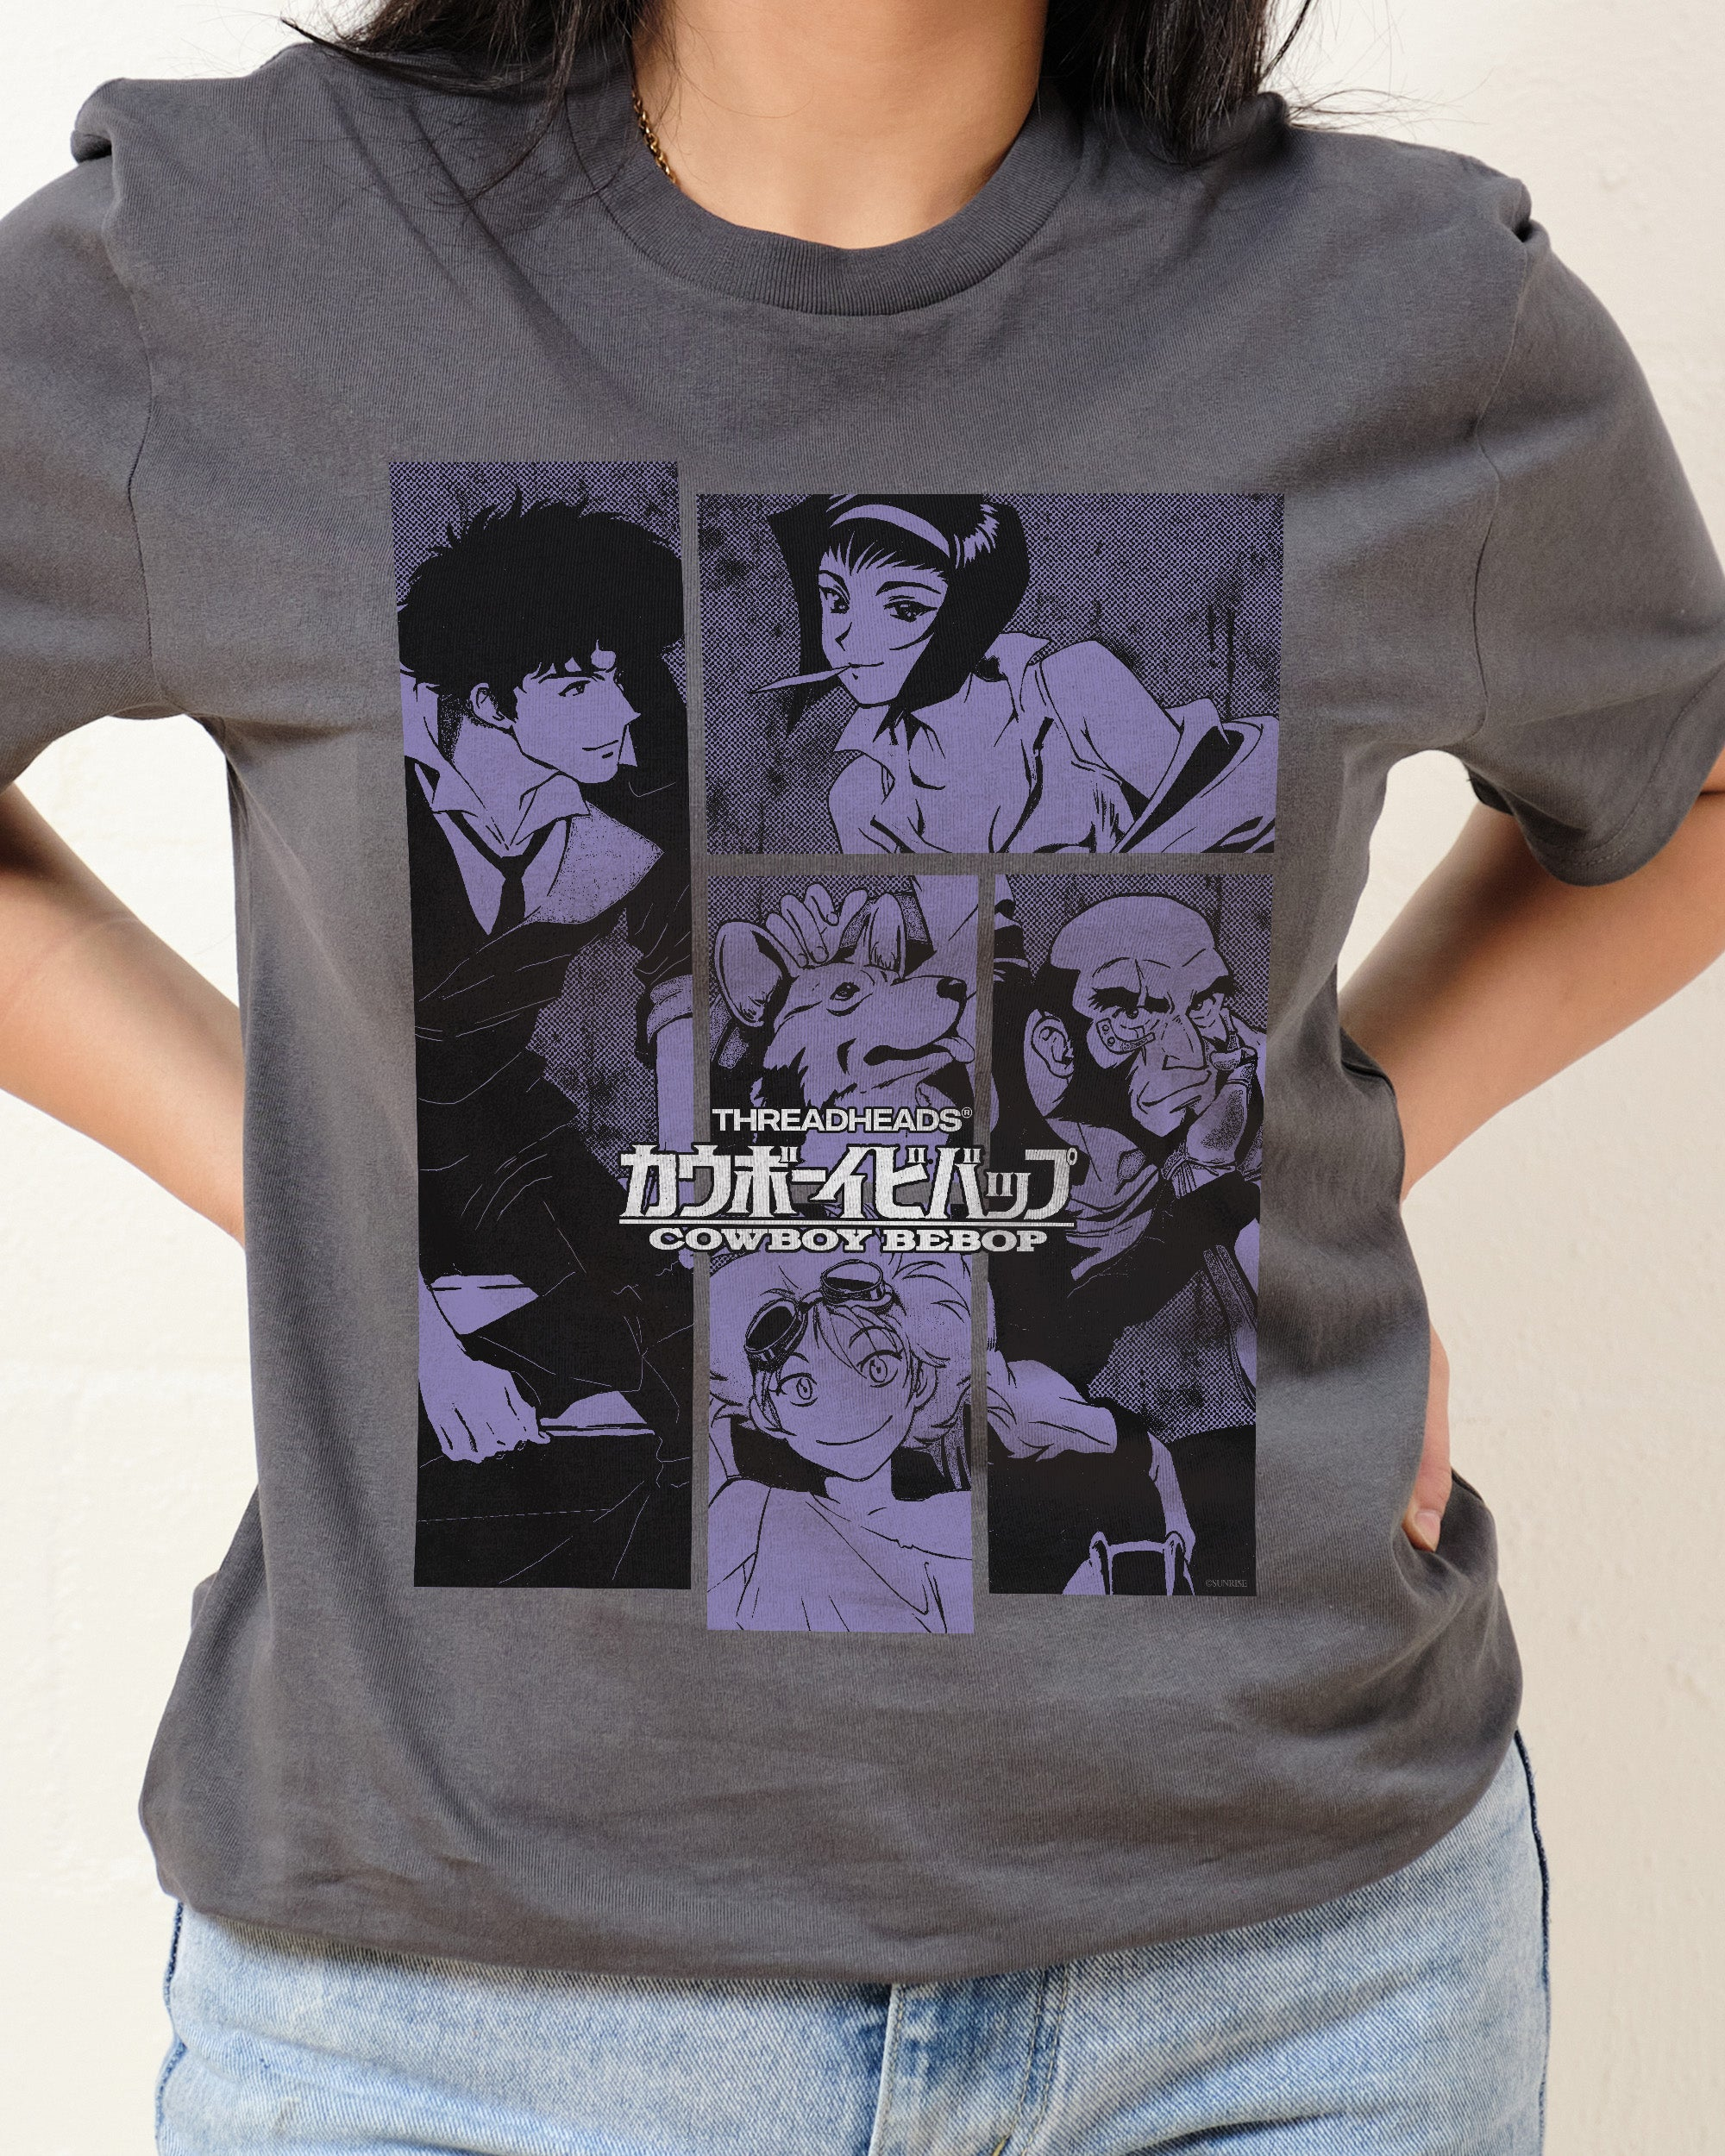design: (387, 447, 1294, 1649)
